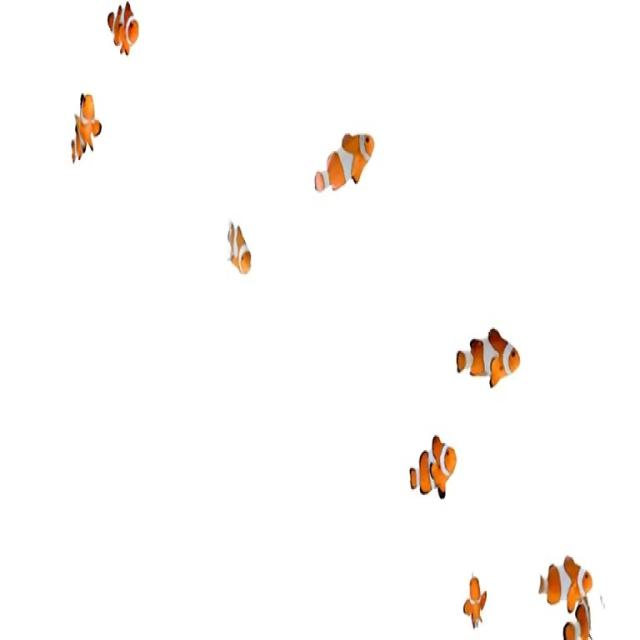fish: (452, 318, 524, 397), (307, 129, 384, 195), (536, 546, 597, 614), (404, 435, 461, 504), (62, 92, 108, 176), (107, 0, 147, 74), (219, 213, 259, 281), (460, 571, 488, 630)
